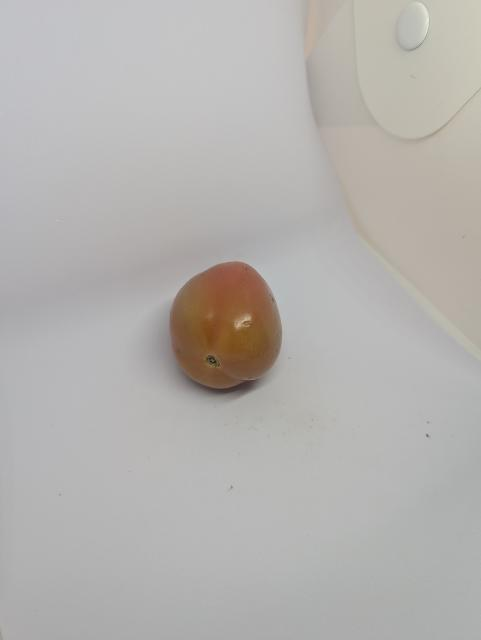turning: (165, 258, 290, 399)
